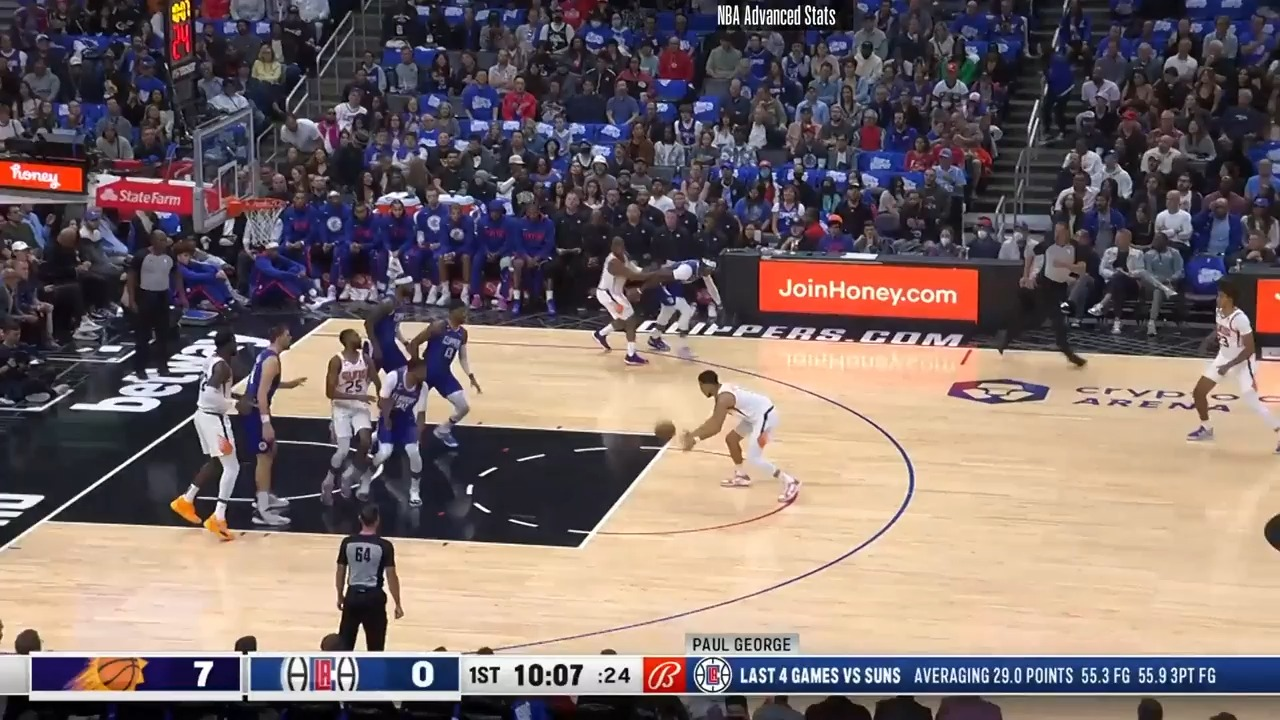net: (227, 191, 290, 245)
player: (681, 372, 798, 511), (1185, 285, 1280, 455), (173, 331, 248, 544), (241, 323, 310, 525), (316, 328, 381, 503), (410, 303, 484, 456), (367, 352, 437, 509), (629, 253, 719, 365), (361, 276, 422, 420), (588, 237, 649, 368)
referee: (997, 219, 1087, 367), (335, 505, 408, 653), (124, 231, 189, 390)
